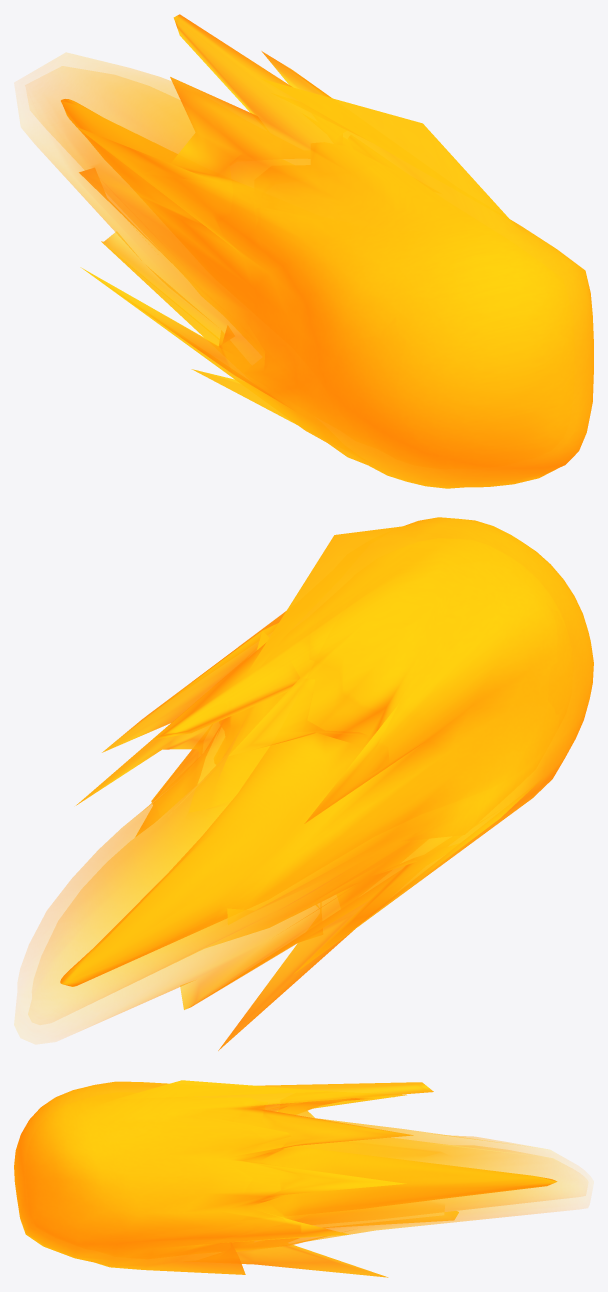
The model's file is torchy1.glb.
3 renders of one model, top to bottom at view 1: azimuth 30°, elevation 25°; view 2: azimuth 150°, elevation 25°; view 3: azimuth 270°, elevation 25°, orthographic. The views are drawn at different scales.
Visible parts, largest first — view 1: Sphere.001, Sphere; view 2: Sphere.001, Sphere; view 3: Sphere.001, Sphere.
Part boxes in pixels (x1,y1,x2,y2): Sphere.001: (20,14,593,488); Sphere: (61,99,203,225); Sphere.001: (14,517,593,1050); Sphere: (60,612,571,986); Sphere.001: (14,1080,588,1277); Sphere: (277,1147,557,1215).
Bounding box in the file's own units: 2.64 × 3.34 × 8.17.
Materials: 2 (1 with a texture image).
